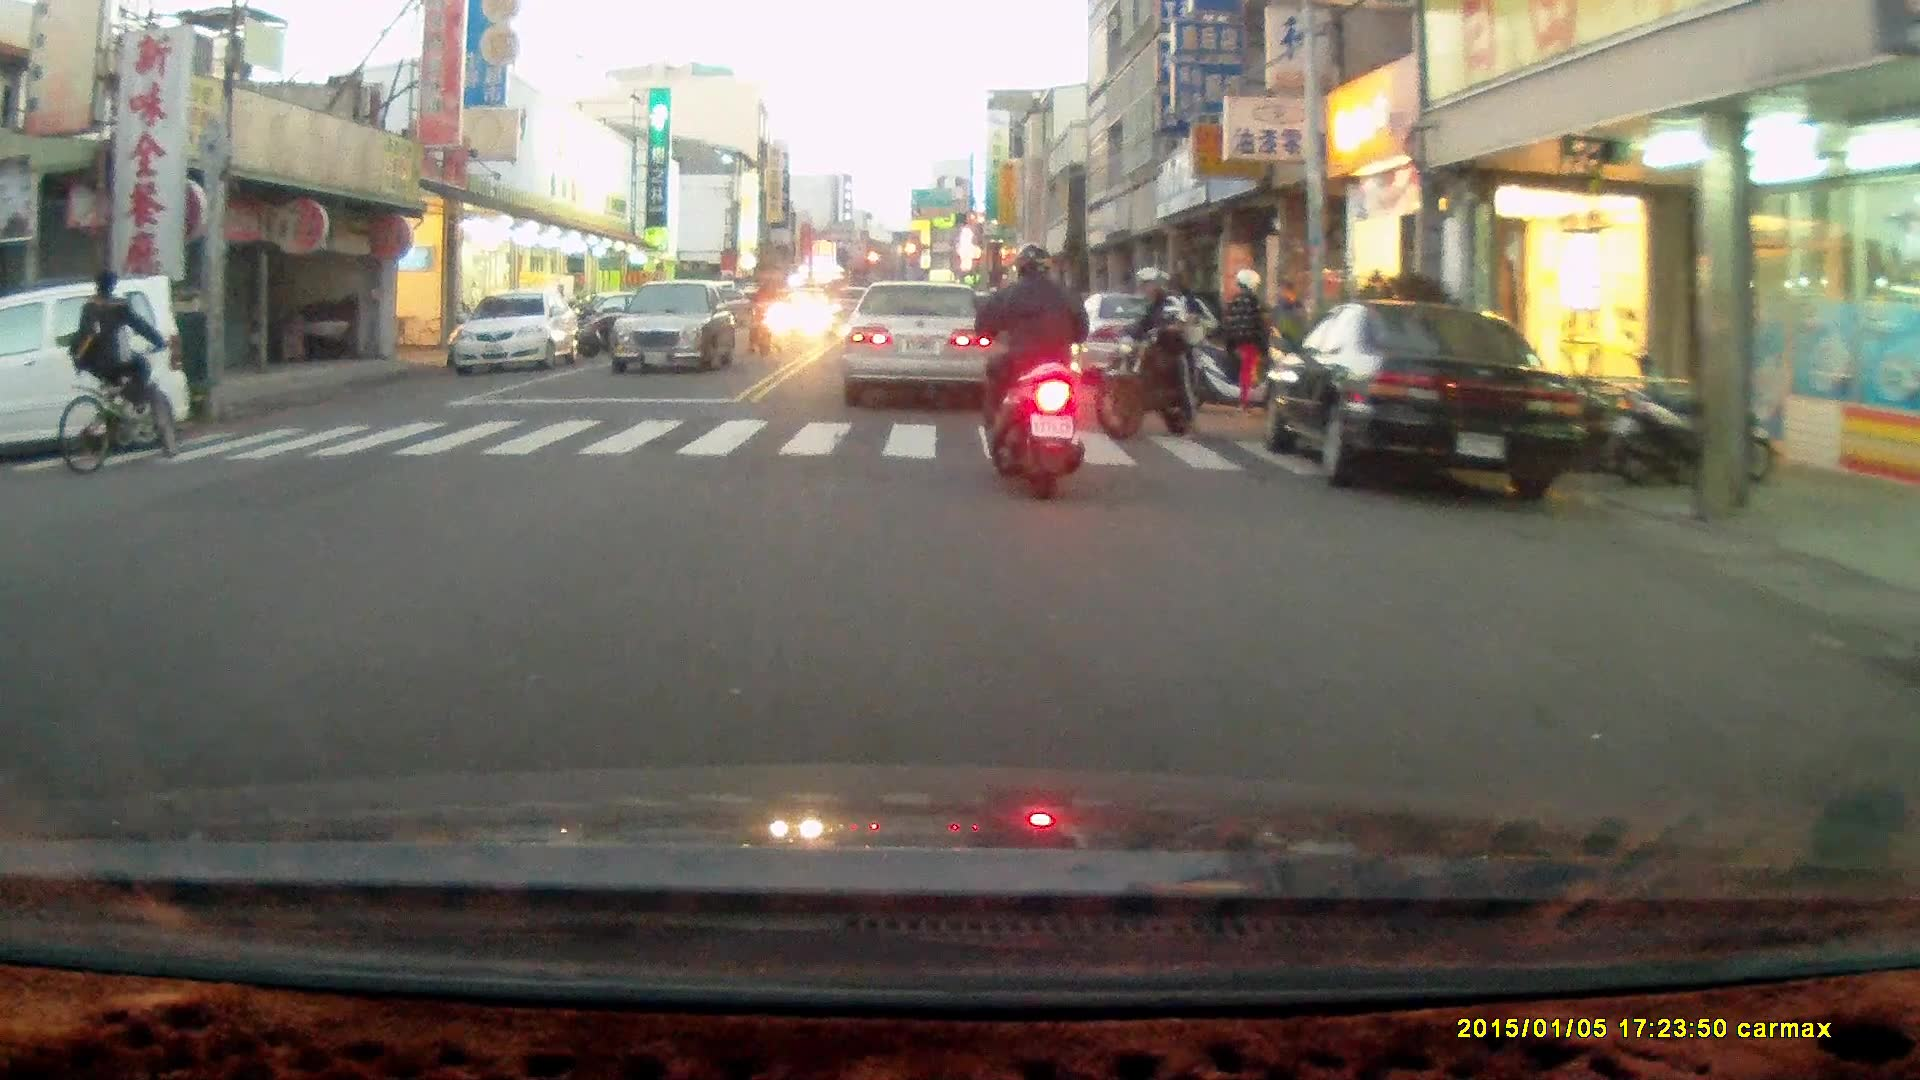pedestrian: (1227, 266, 1270, 418)
rider: (970, 239, 1092, 500), (50, 273, 171, 481), (1092, 263, 1222, 434), (743, 274, 785, 353)
vehicle: (1263, 302, 1583, 498), (1, 276, 199, 459), (851, 281, 1016, 408), (1069, 292, 1209, 391), (612, 279, 740, 380), (451, 291, 582, 373)
